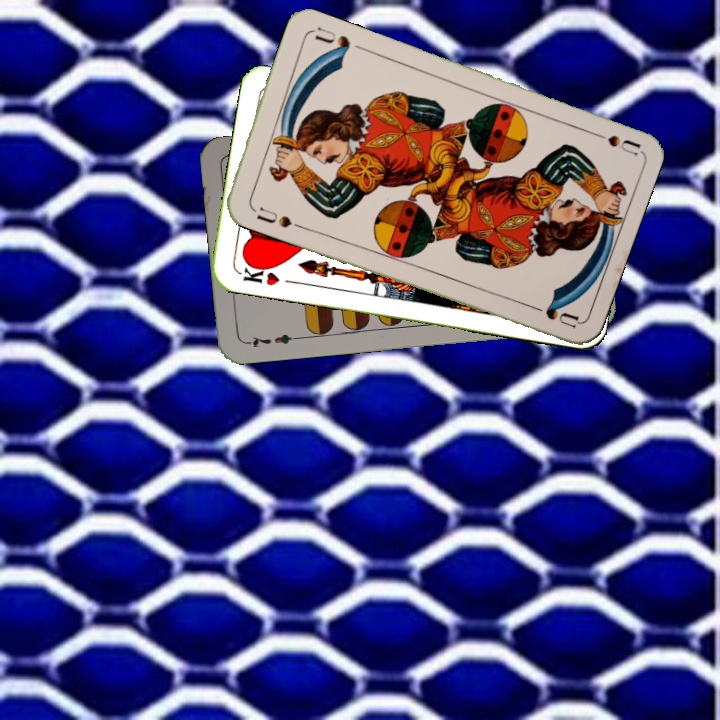E7: (242, 330, 301, 350)
HK: (235, 258, 282, 289)
SU: (583, 125, 641, 158), (252, 203, 294, 230)
